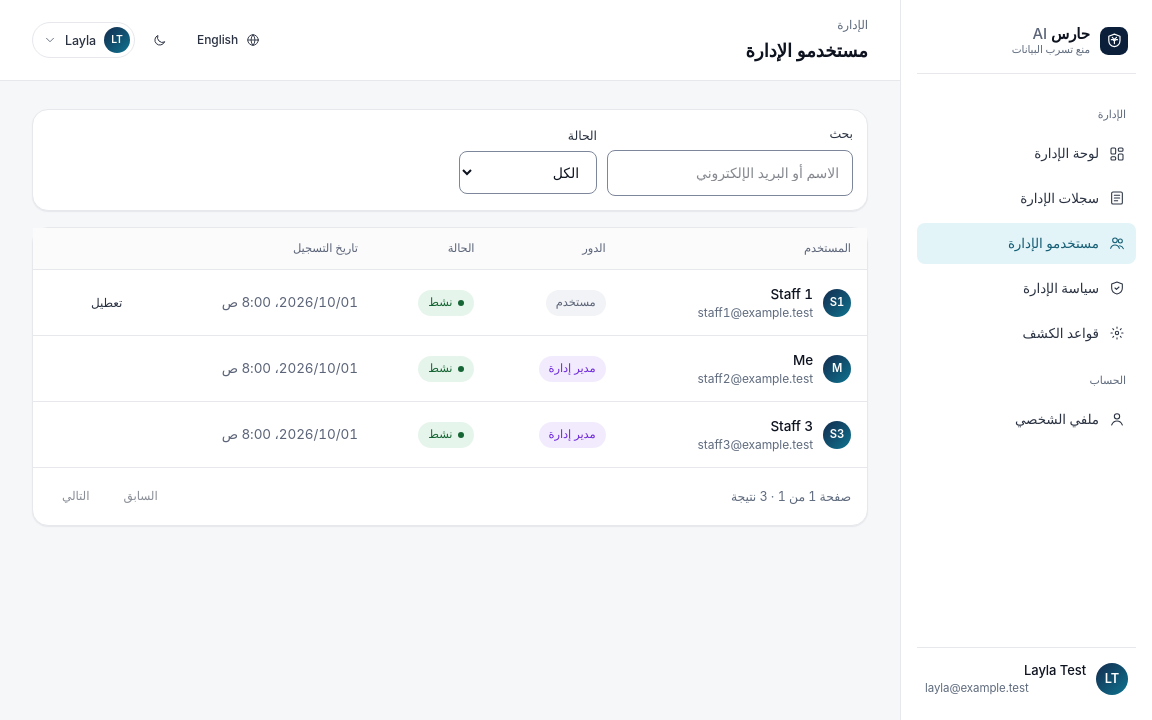
Test case: department users › can deactivate a user only after confirming; admins and the caller have no button
Expected: the text "Staff 1" is shown, [770,286,813,302]
Click the button with aria-label "تعطيل حساب": (107,303) [78,286,135,319]
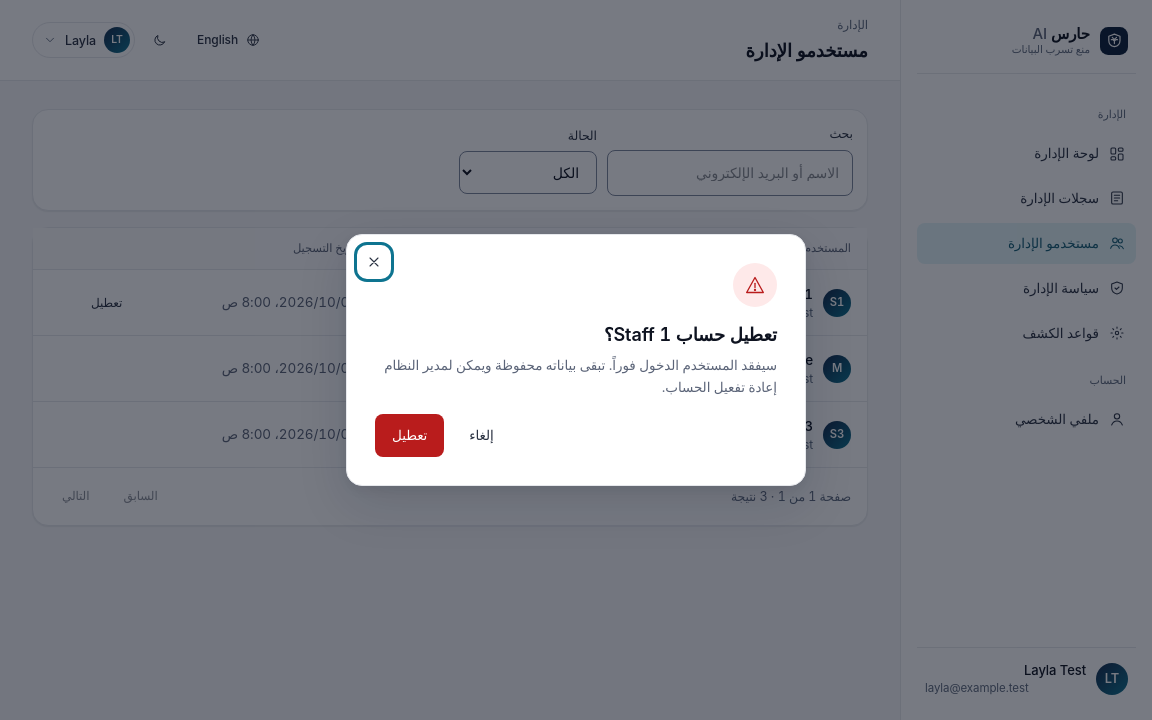
Click the button "تعطيل": (410,436) [375,414,444,457]
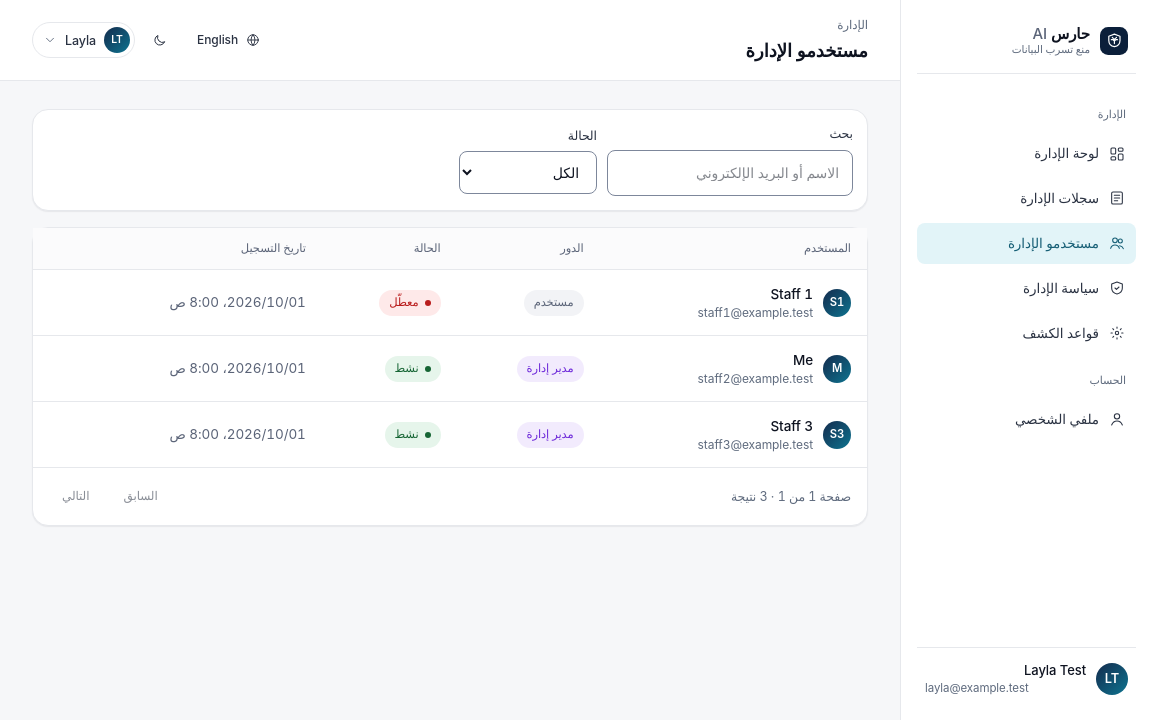
Expected: the dialog is gone
Expected: the text "معطّل" is shown, [379,290,441,316]
